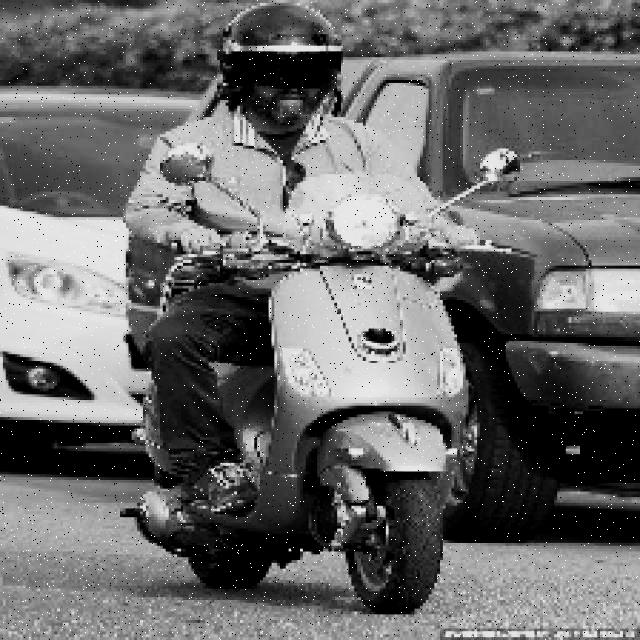Bike: (248, 215, 508, 605)
